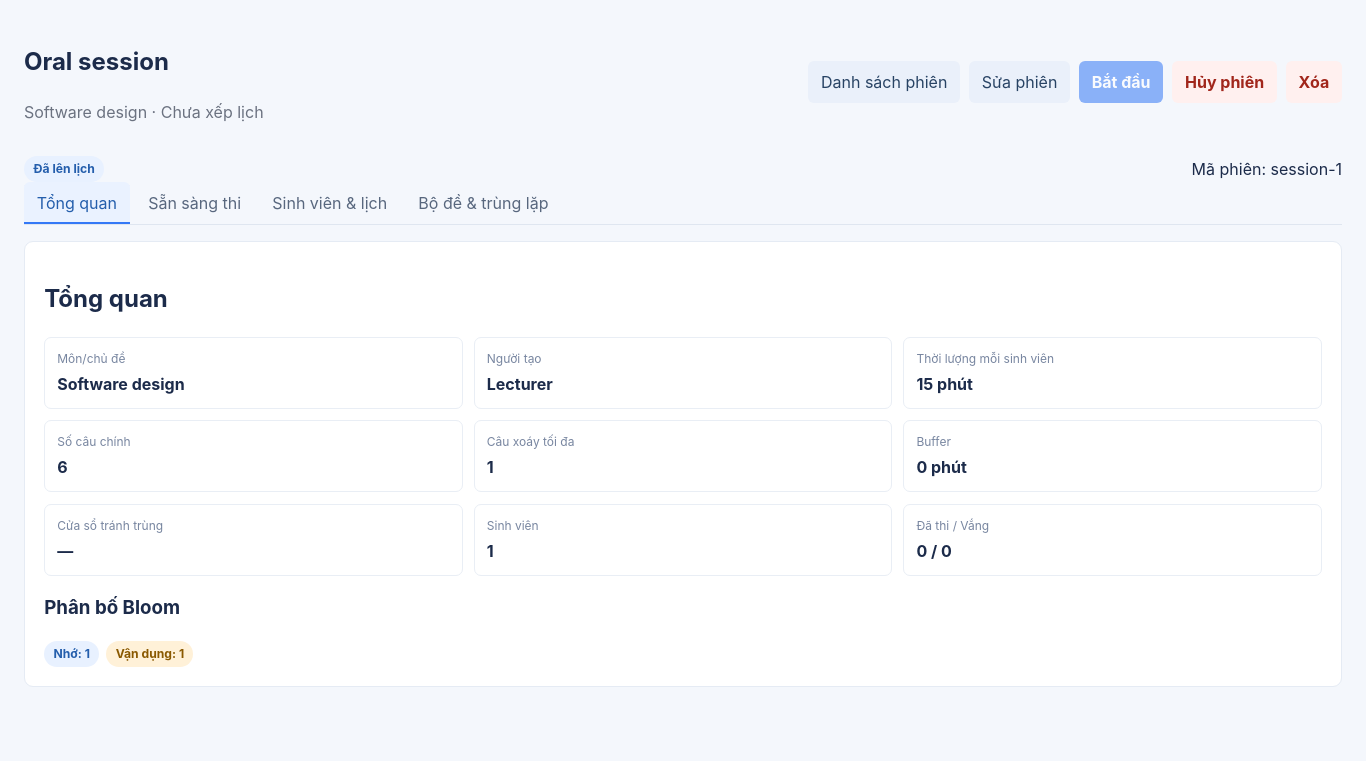
ExamDetailPage › loads readiness in its tab and confirms cancellation when a student is in progress
This screenshot has width=1366, height=761.
Later steps or results of the test are not shown.
Expected: the heading "Oral session" is shown, x1=24 y1=47 x2=169 y2=76
Click the tab "Sẵn sàng thi".
click(195, 203)  # box x1=135 y1=182 x2=254 y2=224
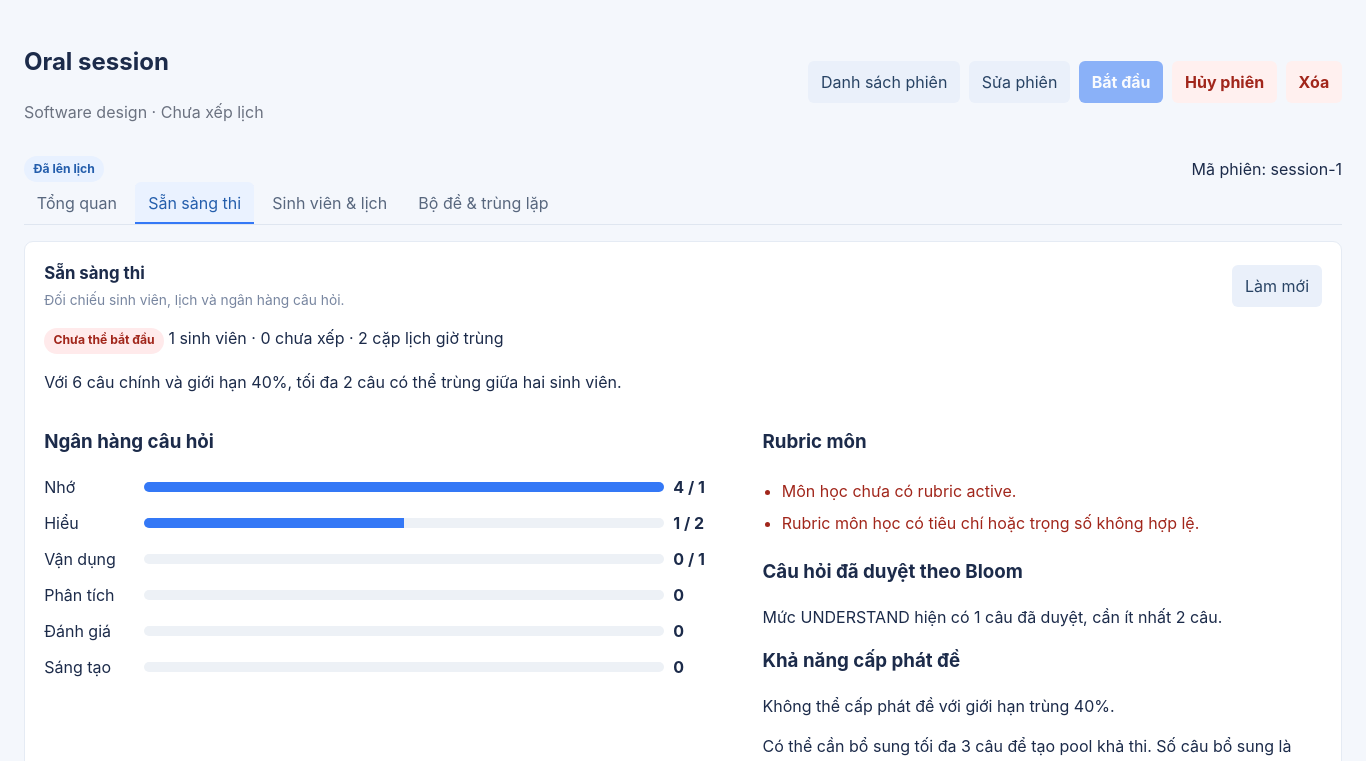
Expected: the list item "Môn học chưa có rubric active." is shown, x1=782 y1=481 x2=1016 y2=501
Expected: the list item "Rubric môn học có tiêu chí hoặc trọng số không hợp lệ." is shown, x1=782 y1=513 x2=1199 y2=533
Expected: the text "Mức UNDERSTAND hiện có 1 câu đã duyệt, cần ít nhất 2 câu." is shown, x1=762 y1=606 x2=1222 y2=626
Click the button "Hủy phiên".
click(1225, 82)  # box x1=1172 y1=61 x2=1277 y2=103
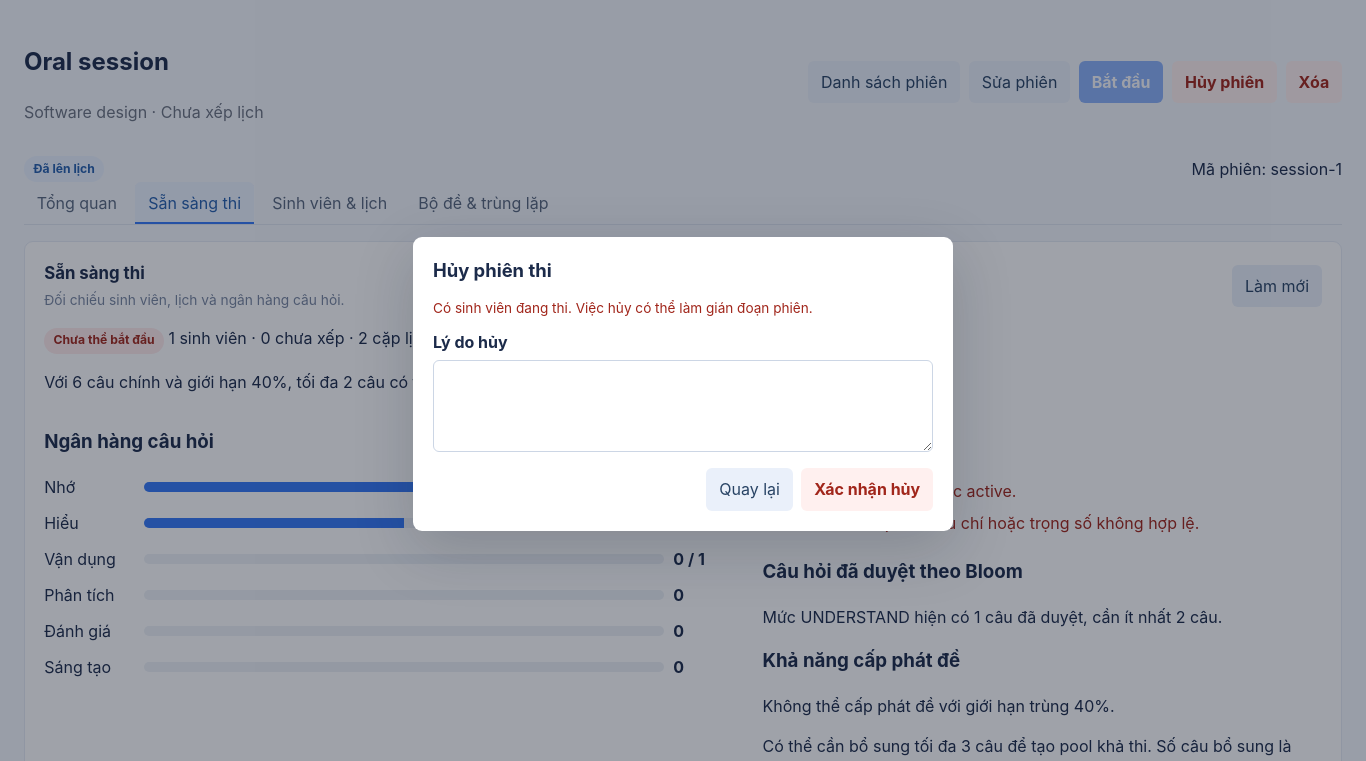
Expected: the text "Có sinh viên đang thi. Việc hủy có thể làm gián đoạn phiên." is shown, x1=433 y1=300 x2=813 y2=316
